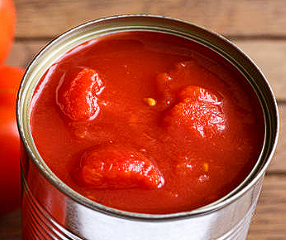Danificado: (30, 23, 270, 209)
